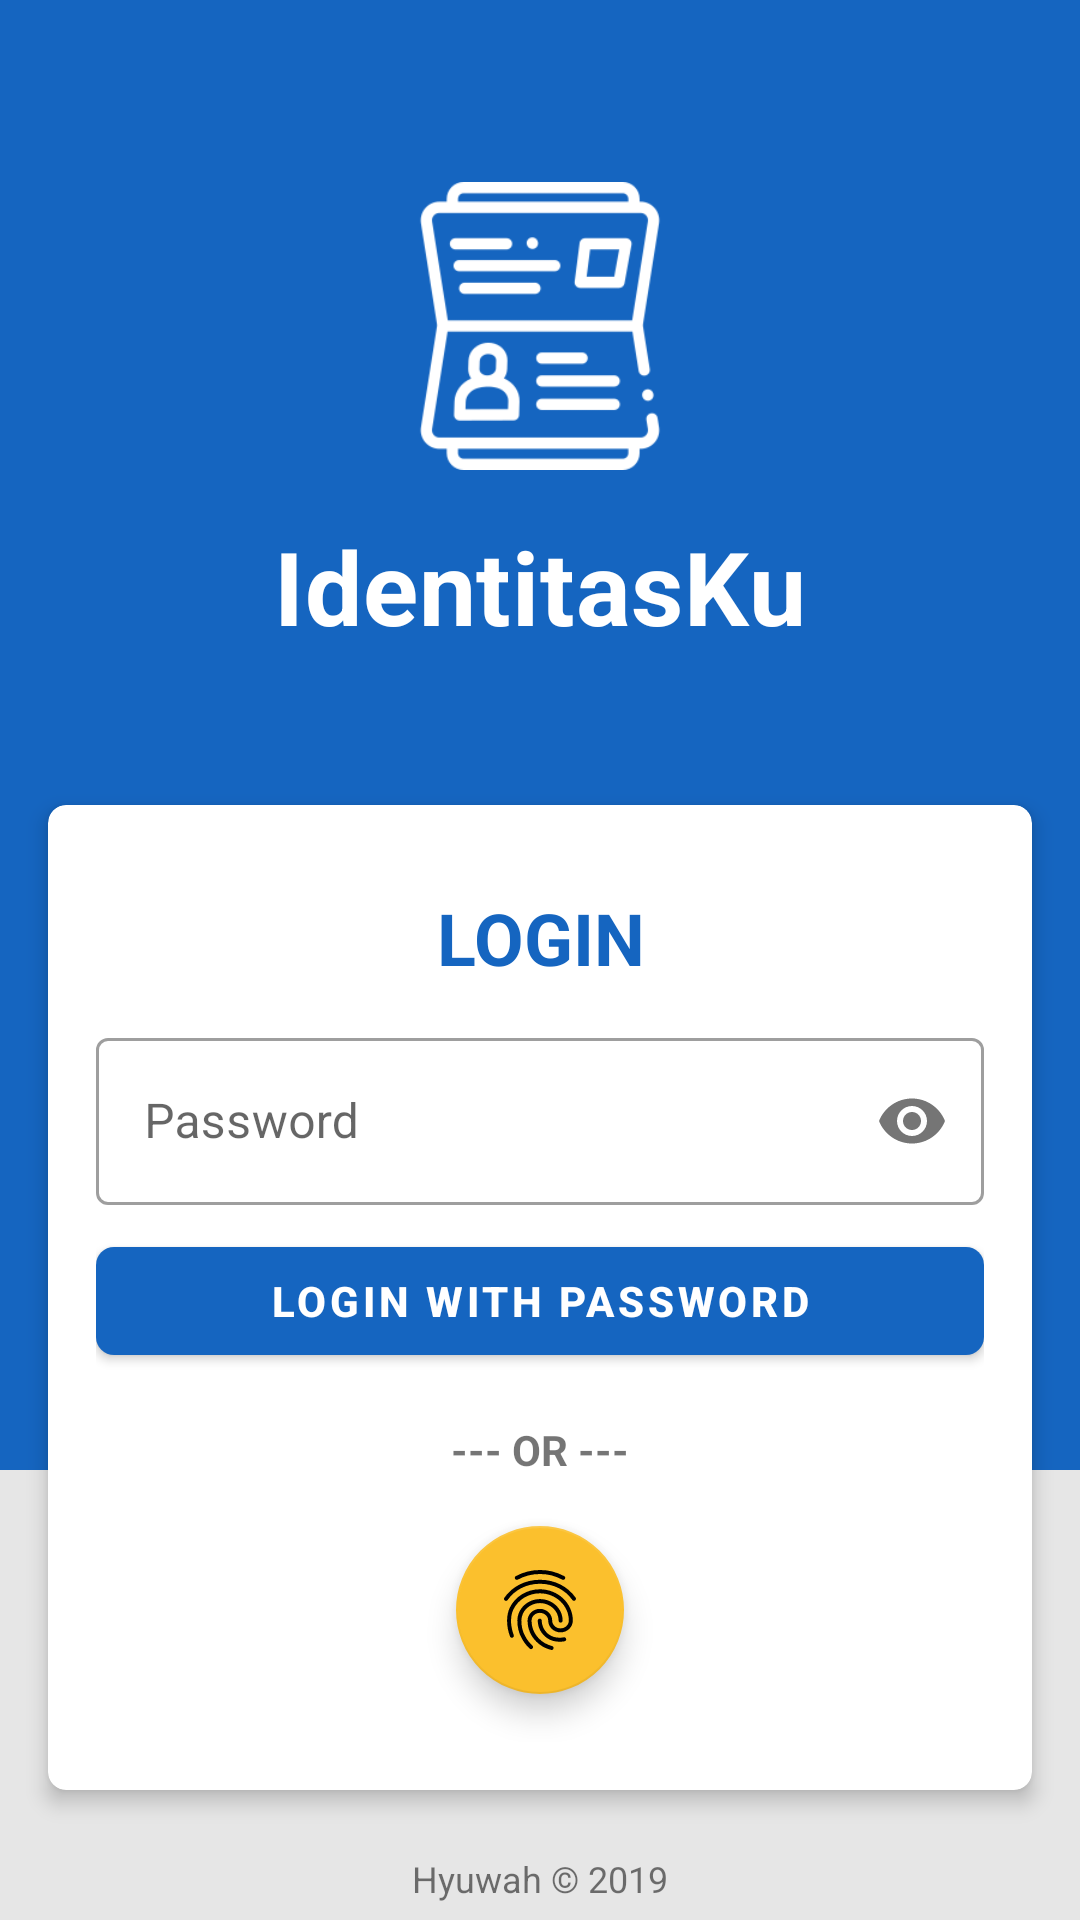

Named icons in this screenshot (1080*1920) and their bounding boxes, region(x1, y1, x2, y2):
fingerprint: region(456, 1526, 624, 1694)
